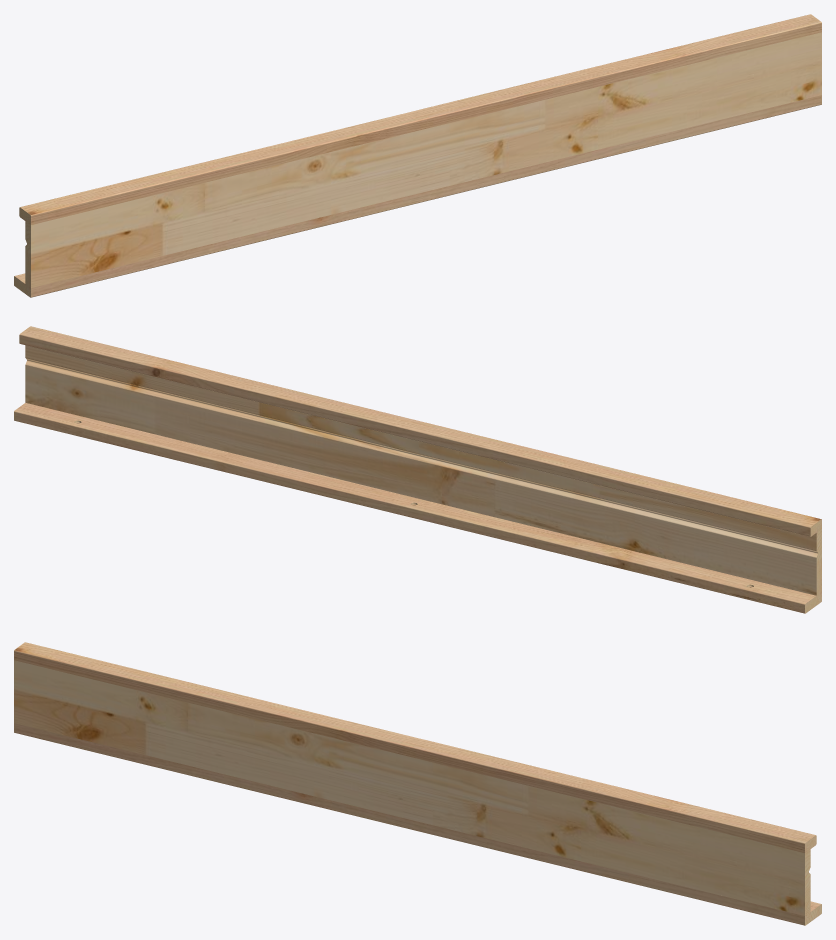
File: nordhagg_poka_na_zdjecia_50636659.glb
3 views of the same model, one above another, from view 1: azimuth 30°, elevation 25°; view 2: azimuth 150°, elevation 25°; view 3: azimuth 330°, elevation 25° (orthographic).
Visible parts, largest first — view 1: nordhagg_poka_na_zdjecia_50636659; view 2: nordhagg_poka_na_zdjecia_50636659; view 3: nordhagg_poka_na_zdjecia_50636659.
Part boxes in pixels (x1,y1,x2,y2): nordhagg_poka_na_zdjecia_50636659: (14,14,821,297); nordhagg_poka_na_zdjecia_50636659: (14,326,821,613); nordhagg_poka_na_zdjecia_50636659: (14,642,821,925).
Size of the model in its own units: 1 by 0.1 by 0.037.
Materials: 1 (1 with a texture image).
